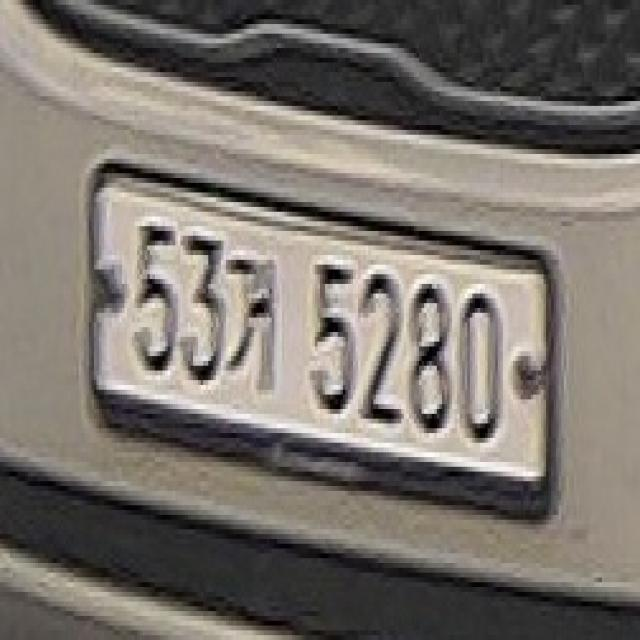0: (457, 284, 516, 438)
2: (358, 241, 409, 433)
3: (173, 212, 231, 399)
5: (305, 236, 363, 418), (127, 212, 183, 380)
8: (404, 264, 454, 442)
geo: (221, 240, 279, 394)
license_plate: (81, 159, 566, 539)
